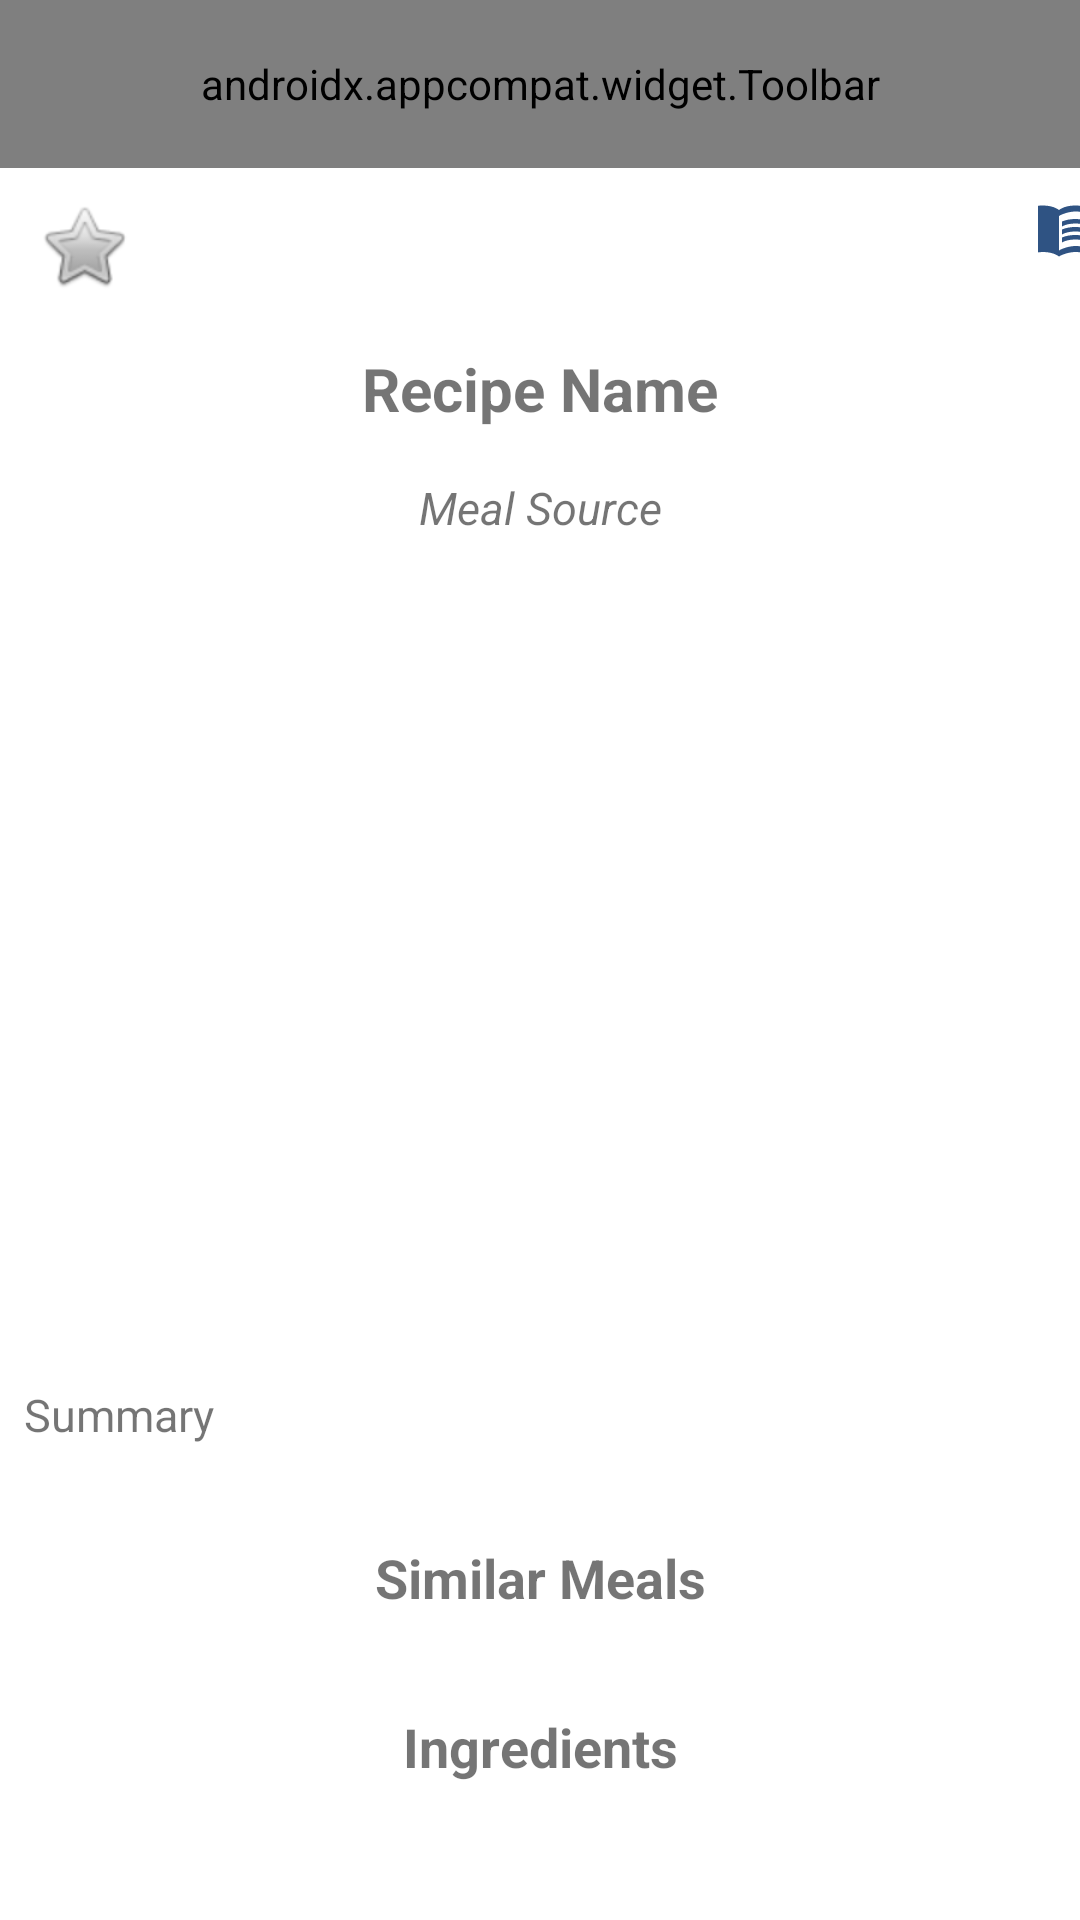

Point at icon controls on the screen. Image size 1080w x 1920h, points as (x=x, y=y).
book: (x=1059, y=231)
star off: (x=85, y=247)
